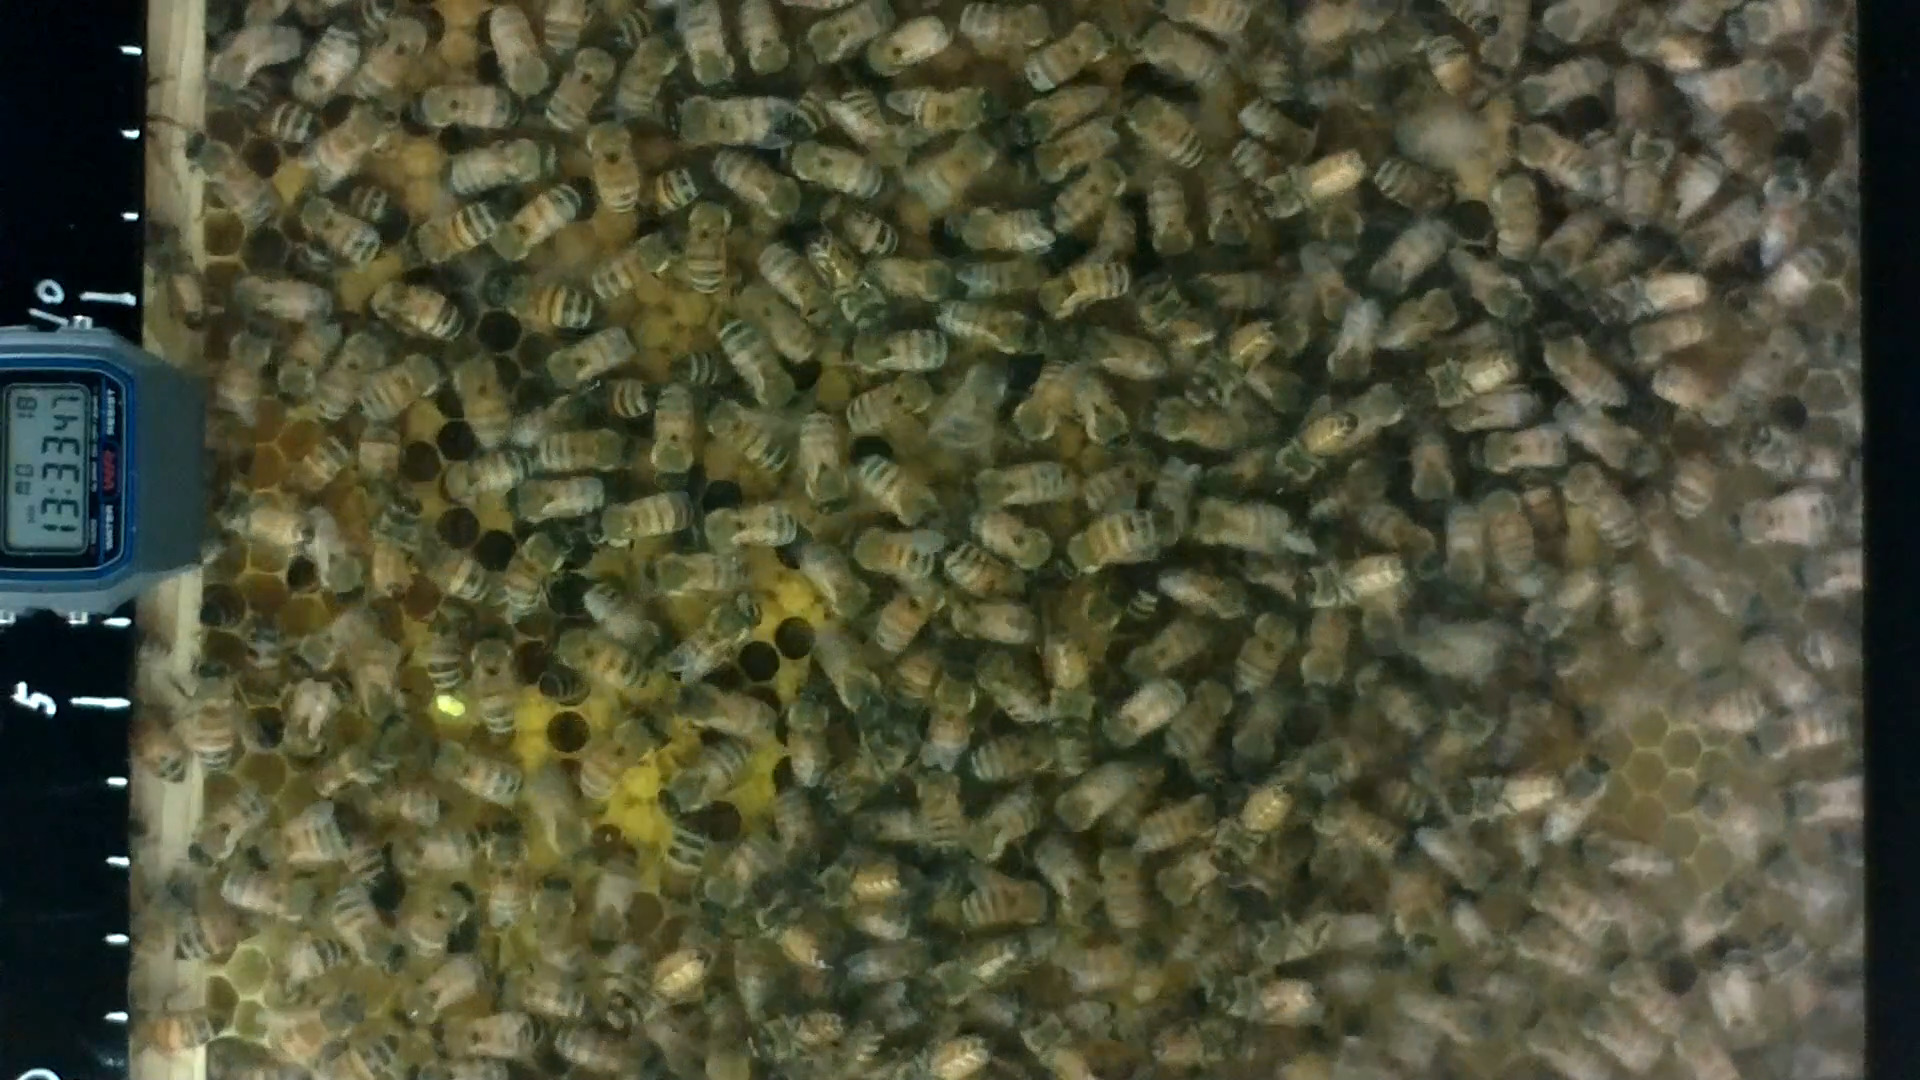hati: (574, 700, 665, 808), (181, 135, 276, 231), (1116, 88, 1207, 177), (425, 736, 525, 812), (934, 301, 1056, 363), (260, 993, 372, 1058), (410, 76, 526, 138), (287, 199, 382, 274), (498, 524, 568, 624), (589, 231, 688, 301), (713, 320, 789, 411), (663, 96, 804, 144), (444, 347, 512, 446), (669, 742, 757, 818), (210, 326, 276, 426), (190, 659, 243, 785), (787, 136, 884, 204), (1141, 397, 1255, 454), (794, 401, 848, 521), (584, 111, 645, 218), (360, 351, 444, 427), (895, 84, 1004, 144), (367, 280, 469, 342), (492, 273, 595, 335), (592, 492, 696, 553), (464, 632, 521, 738), (1064, 512, 1160, 574), (414, 531, 491, 609), (1038, 265, 1135, 326), (487, 3, 545, 104), (434, 1013, 553, 1062), (364, 498, 418, 605), (938, 204, 1052, 255), (406, 196, 498, 258), (841, 521, 934, 582), (673, 684, 769, 742), (450, 138, 560, 189), (546, 331, 646, 386), (956, 463, 1069, 512), (252, 816, 353, 869), (695, 502, 802, 553), (1487, 165, 1538, 272), (841, 328, 949, 377), (844, 377, 942, 431), (642, 546, 753, 593), (785, 684, 835, 789), (909, 767, 964, 858), (1234, 608, 1291, 694), (485, 823, 530, 927), (658, 825, 711, 913), (957, 3, 1046, 53), (654, 382, 696, 485), (690, 196, 729, 301)
